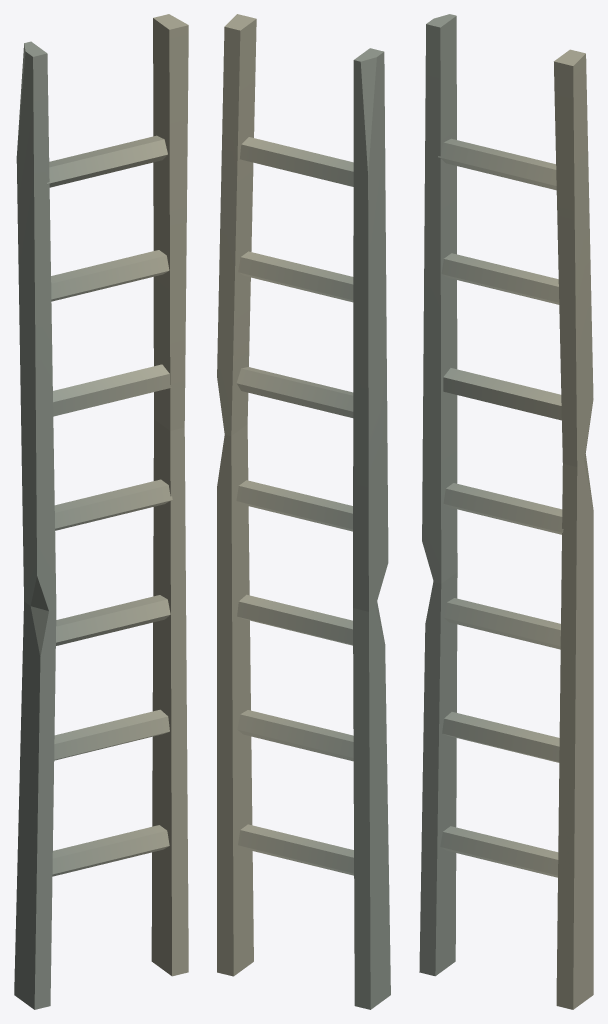
File: SM_Prop_Ladder_02.glb
3 renders of one model, left to right at view 1: azimuth 30°, elevation 25°; view 2: azimuth 150°, elevation 25°; view 3: azimuth 330°, elevation 25°, orthographic.
Visible parts, largest first — view 1: SM_Prop_Ladder_02; view 2: SM_Prop_Ladder_02; view 3: SM_Prop_Ladder_02.
Boxes of the visible parts, left/top/right/bottom form: SM_Prop_Ladder_02: left=14, top=14, right=188, bottom=1009; SM_Prop_Ladder_02: left=217, top=14, right=390, bottom=1009; SM_Prop_Ladder_02: left=419, top=14, right=593, bottom=1009.
Bounding box in the file's own units: 0.7016 × 4.13 × 0.1607.
Materials: 1 (1 with a texture image).
